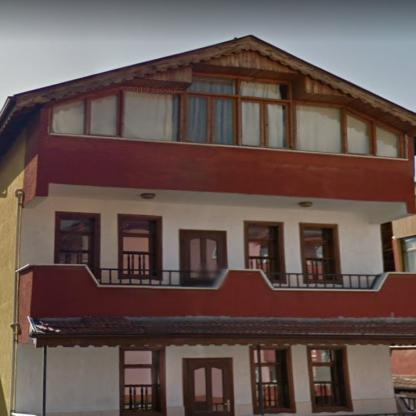door: (189, 360, 232, 414), (183, 233, 221, 285)
window: (52, 74, 403, 158), (125, 350, 154, 408), (60, 218, 93, 268), (122, 219, 152, 274), (255, 351, 281, 408), (248, 226, 274, 278), (311, 349, 334, 403), (305, 229, 329, 279), (404, 237, 416, 272)
